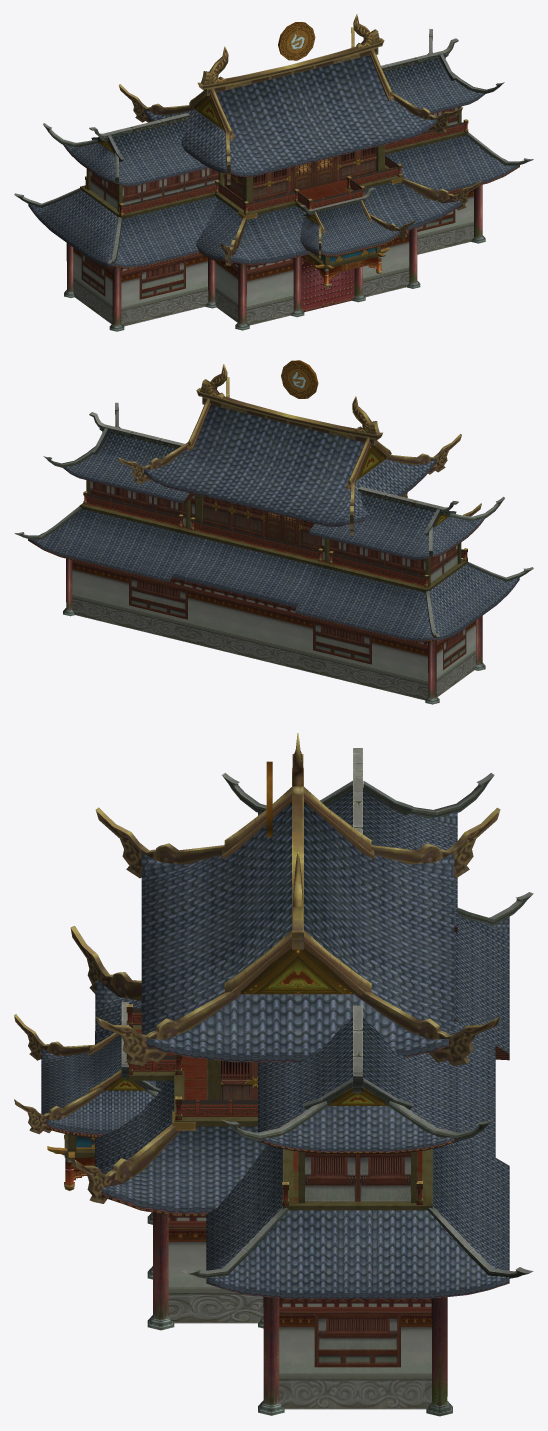
File: Yland3_fzi_05 Yland3.FBX
The picture shows the model from 3 angles, top to bottom: view 1: azimuth 30°, elevation 25°; view 2: azimuth 150°, elevation 25°; view 3: azimuth 270°, elevation 25°; orthographic projection. The views are drawn at different scales.
Visible parts, largest first — view 1: Yland3_fzi_05 Yland3; view 2: Yland3_fzi_05 Yland3; view 3: Yland3_fzi_05 Yland3.
Boxes of the visible parts, x1,y1,x2,y2 form: Yland3_fzi_05 Yland3: (14, 14, 533, 331); Yland3_fzi_05 Yland3: (14, 360, 533, 704); Yland3_fzi_05 Yland3: (14, 733, 533, 1416).
Bounding box in the file's own units: 13.65 × 8.03 × 7.86.
